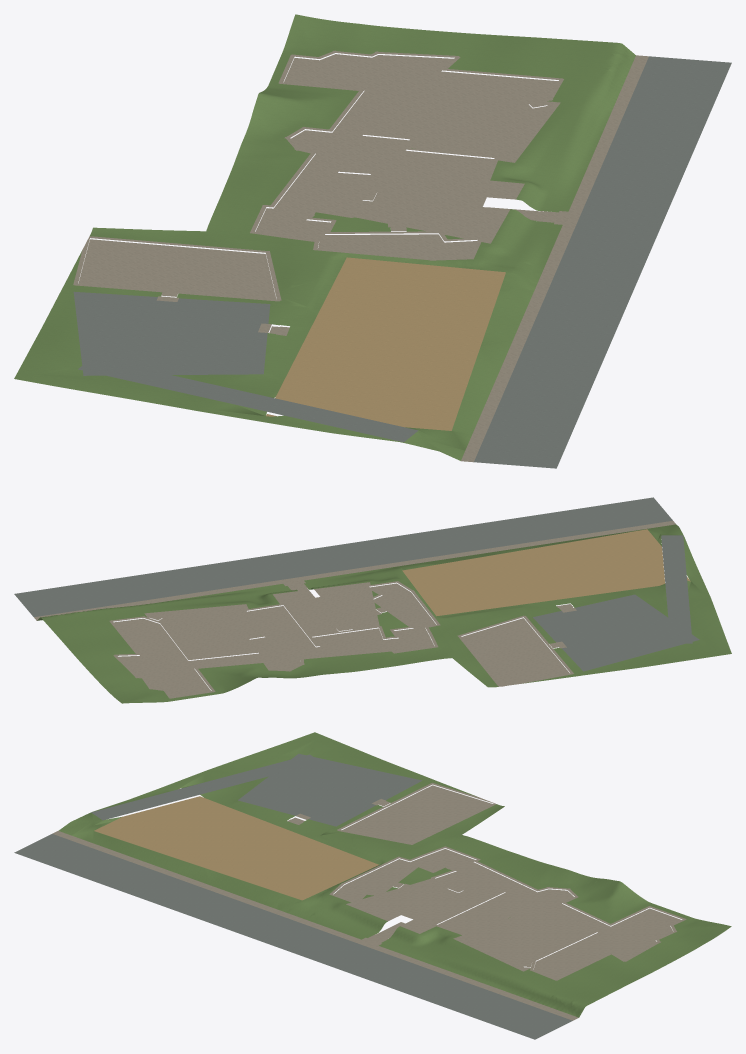
3 renders of one model, top to bottom at view 1: azimuth 30°, elevation 25°; view 2: azimuth 150°, elevation 25°; view 3: azimuth 270°, elevation 25°, orthographic. The views are drawn at different scales.
Visible parts, largest first — view 1: surface_school-garden-ground, surface_roadfront-grade-support, surface_dirt-playing-field, surface_underbuilding-main, surface_parking-west, surface_underbuilding-gym, surface_northeast-courtyard, surface_southwest-courtyard, surface_public-sidewalk, surface_parking-vehicle-access, surface_main-gate-to-courtyard-path; view 2: surface_school-garden-ground, surface_roadfront-grade-support, surface_dirt-playing-field, surface_underbuilding-main, surface_parking-west, surface_underbuilding-gym, surface_northeast-courtyard, surface_southwest-courtyard, surface_public-sidewalk, surface_parking-vehicle-access, surface_main-gate-to-courtyard-path; view 3: surface_school-garden-ground, surface_roadfront-grade-support, surface_dirt-playing-field, surface_underbuilding-main, surface_parking-west, surface_underbuilding-gym, surface_northeast-courtyard, surface_southwest-courtyard, surface_public-sidewalk, surface_parking-vehicle-access, surface_main-gate-to-courtyard-path.
Part boxes in pixels (<box>): surface_school-garden-ground: <box>14,14,635,460</box>; surface_roadfront-grade-support: <box>474,56,731,468</box>; surface_dirt-playing-field: <box>266,257,505,430</box>; surface_underbuilding-main: <box>255,54,558,258</box>; surface_parking-west: <box>73,291,270,375</box>; surface_underbuilding-gym: <box>78,239,276,299</box>; surface_northeast-courtyard: <box>368,94,560,162</box>; surface_southwest-courtyard: <box>354,174,524,243</box>; surface_public-sidewalk: <box>461,55,648,462</box>; surface_parking-vehicle-access: <box>78,357,418,442</box>; surface_main-gate-to-courtyard-path: <box>365,186,486,207</box>; surface_school-garden-ground: <box>37,524,731,703</box>; surface_roadfront-grade-support: <box>14,497,672,616</box>; surface_dirt-playing-field: <box>402,529,690,616</box>; surface_underbuilding-main: <box>114,583,435,696</box>; surface_parking-west: <box>533,594,699,671</box>; surface_underbuilding-gym: <box>462,618,569,686</box>; surface_northeast-courtyard: <box>144,604,260,658</box>; surface_southwest-courtyard: <box>273,582,379,635</box>; surface_public-sidewalk: <box>34,521,675,620</box>; surface_parking-vehicle-access: <box>661,535,692,643</box>; surface_main-gate-to-courtyard-path: <box>305,597,342,633</box>; surface_school-garden-ground: <box>58,732,731,1017</box>; surface_roadfront-grade-support: <box>14,834,572,1039</box>; surface_dirt-playing-field: <box>94,788,378,900</box>; surface_underbuilding-main: <box>334,849,680,978</box>; surface_parking-west: <box>238,753,422,826</box>; surface_underbuilding-gym: <box>342,785,492,843</box>; surface_northeast-courtyard: <box>453,911,593,971</box>; surface_southwest-courtyard: <box>346,878,485,933</box>; surface_public-sidewalk: <box>52,831,578,1020</box>; surface_parking-vehicle-access: <box>91,754,321,820</box>; surface_main-gate-to-courtyard-path: <box>401,890,469,918</box>.
Size of the model in its own units: 191 by 5.19 by 194.
Materials: 4 (4 with a texture image).
